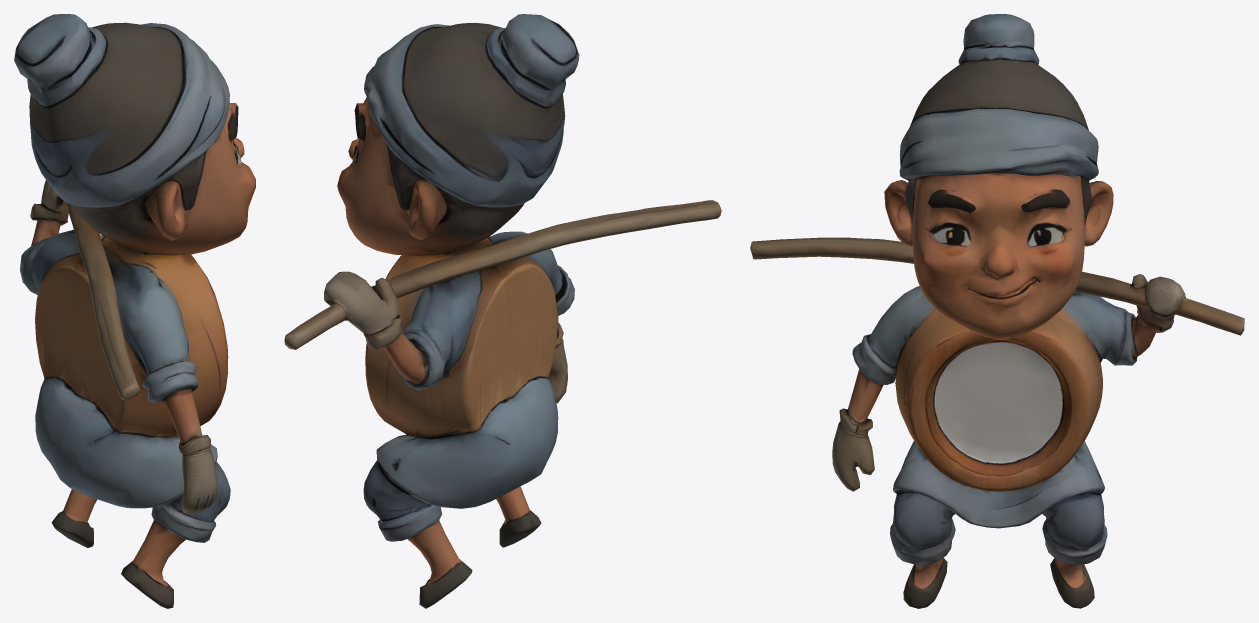
File: n_tiaoshui.glb
The picture shows the model from 3 angles, left to right: view 1: azimuth 30°, elevation 25°; view 2: azimuth 150°, elevation 25°; view 3: azimuth 270°, elevation 25°; orthographic projection.
Parts seen in each view (by area): view 1: tripo_node_ea1fc6c3-1474-44e2-ab71-8bc534009191; view 2: tripo_node_ea1fc6c3-1474-44e2-ab71-8bc534009191; view 3: tripo_node_ea1fc6c3-1474-44e2-ab71-8bc534009191.
Part boxes in pixels (x1,y1,x2,y2): tripo_node_ea1fc6c3-1474-44e2-ab71-8bc534009191: (14, 14, 255, 608); tripo_node_ea1fc6c3-1474-44e2-ab71-8bc534009191: (284, 14, 721, 608); tripo_node_ea1fc6c3-1474-44e2-ab71-8bc534009191: (750, 14, 1244, 608).
Bounding box in the file's own units: 0.4488 × 1 × 0.7961.
1 material, 1 textured.
